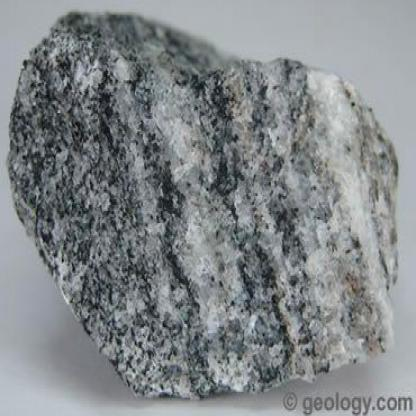Metamorphic_Quartize: (8, 6, 402, 390)
